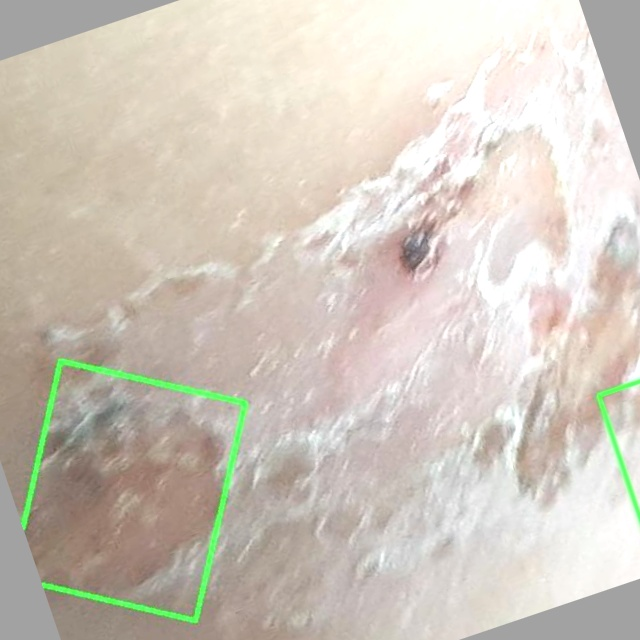Contact Dermatitis: (22, 362, 245, 621)
